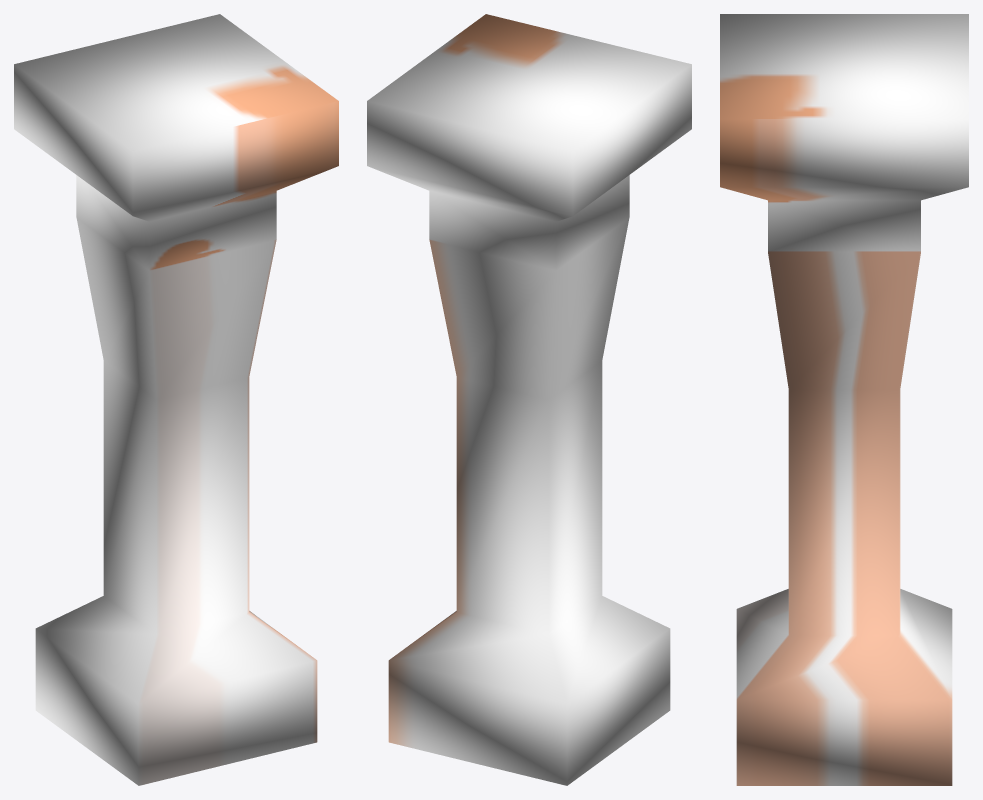
The model's file is Bone.glb.
3 views of the same model, side by side, from view 1: azimuth 30°, elevation 25°; view 2: azimuth 150°, elevation 25°; view 3: azimuth 270°, elevation 25° (orthographic). The views are drawn at different scales.
Parts seen in each view (by area): view 1: Cube.001; view 2: Cube.001; view 3: Cube.001.
Boxes of the visible parts, <box> form: Cube.001: <box>14,14,338,785</box>; Cube.001: <box>367,14,691,785</box>; Cube.001: <box>720,14,968,785</box>.
Bounding box in the file's own units: 1.24 × 3.7 × 1.24.
Materials: 1 (1 with a texture image).
